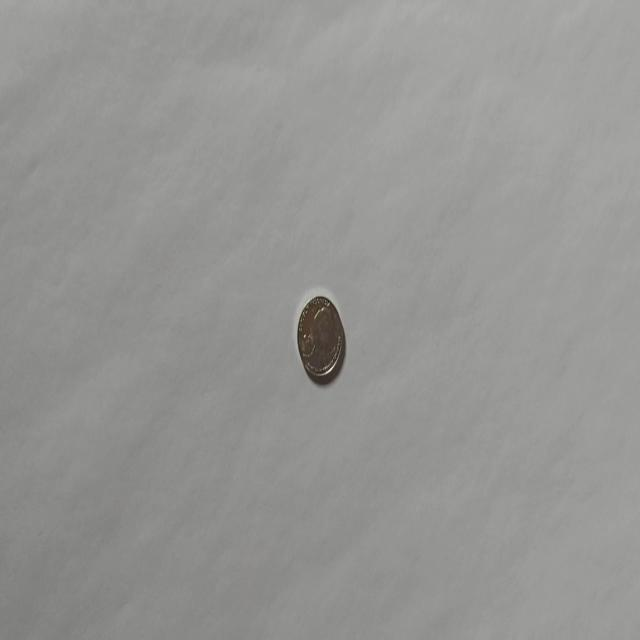seratus rupiah: (296, 294, 344, 382)
